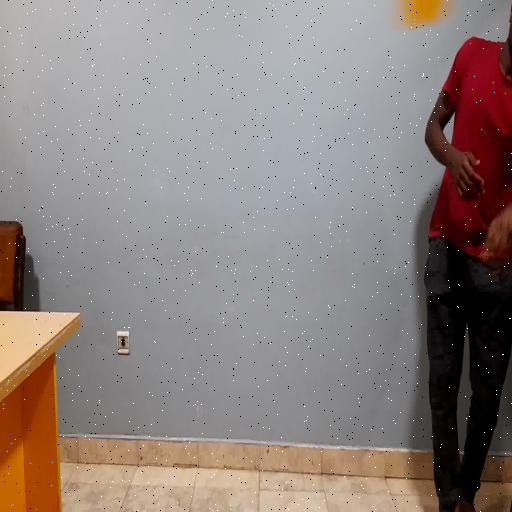plastic-ball: (394, 0, 452, 30)
